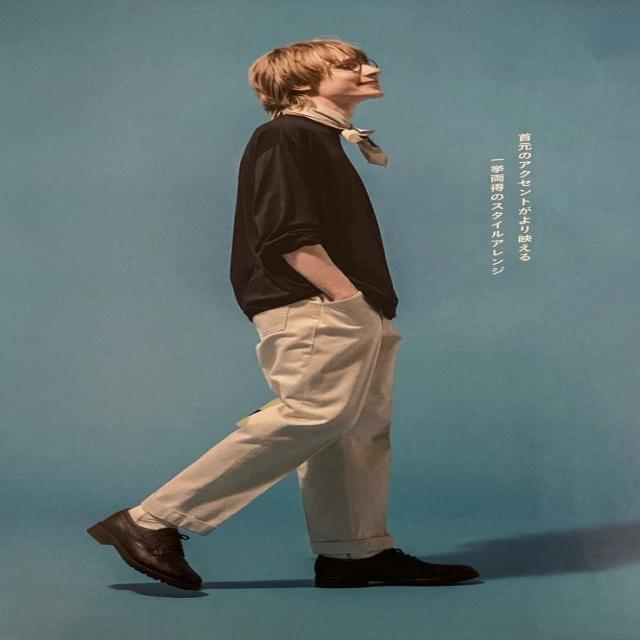person: (86, 38, 481, 592)
